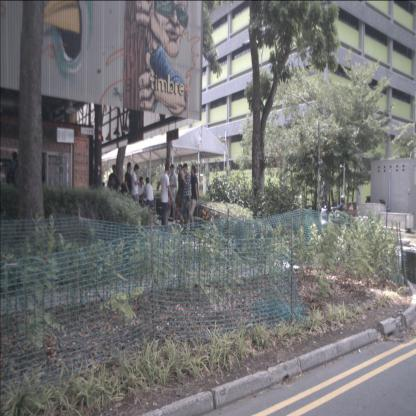barrier: (401, 247, 415, 285)
